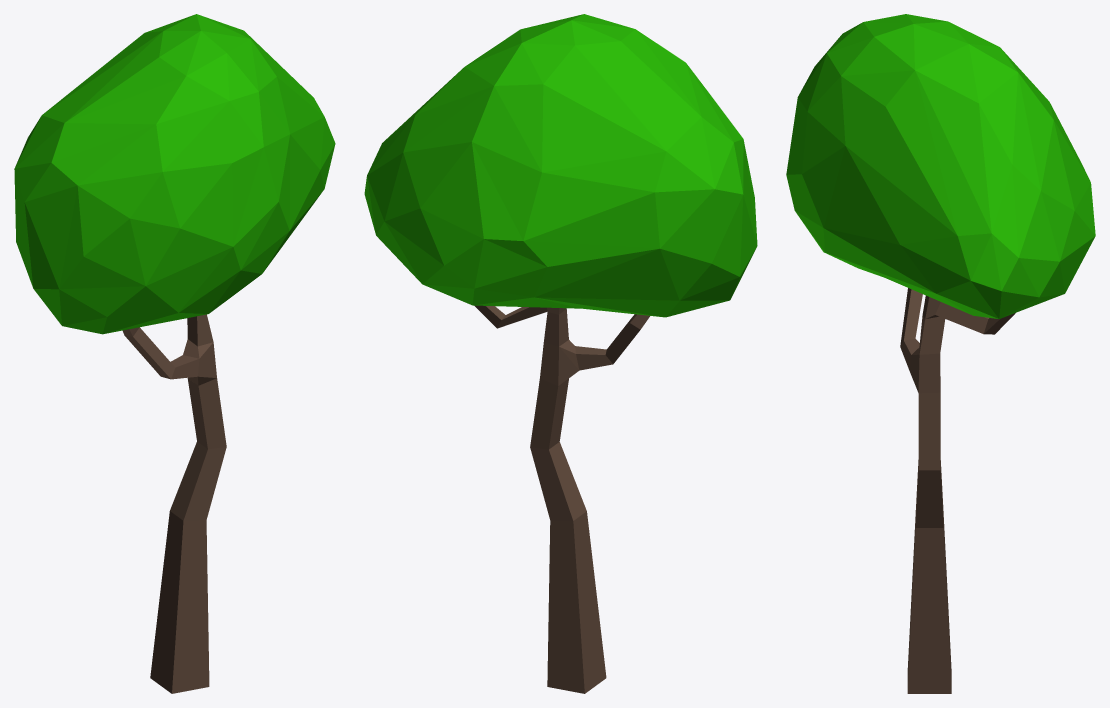
File: TreeSmall.fbx
3 renders of one model, left to right at view 1: azimuth 30°, elevation 25°; view 2: azimuth 150°, elevation 25°; view 3: azimuth 270°, elevation 25°, orthographic.
Visible parts, largest first — view 1: tree; view 2: tree; view 3: tree.
Boxes of the visible parts, x1,y1,x2,y2 form: tree: [14, 14, 335, 693]; tree: [364, 14, 757, 693]; tree: [786, 14, 1095, 693].
Bounding box in the file's own units: 167 × 310 × 130.
